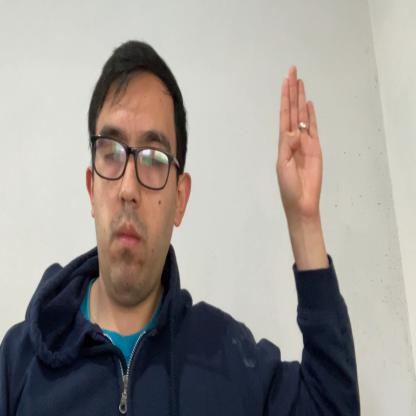B: (277, 65, 323, 219)
